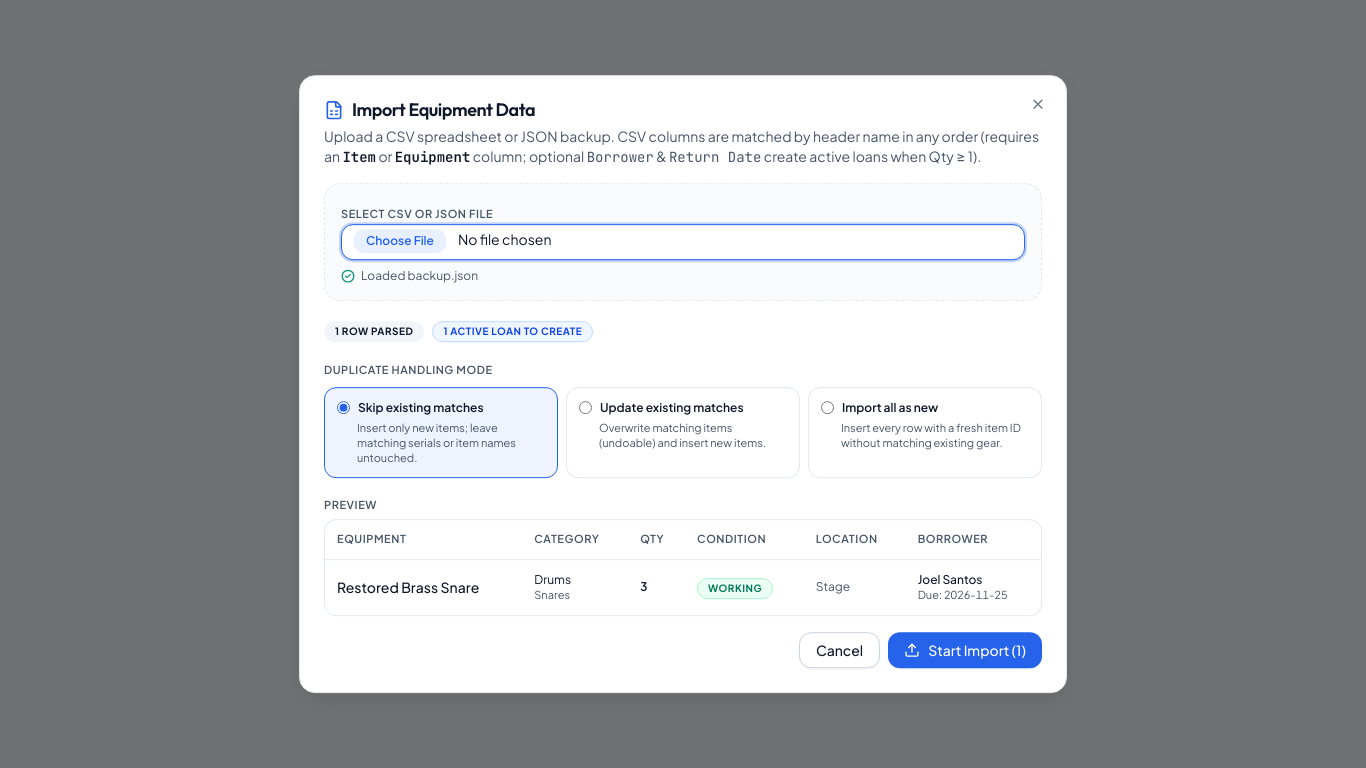
it: ImportWizardDialog › preserves subcategory_id and activeLoans when importing a JSON backup and logs partial commits if loans insert fails
Earlier steps of the test are not shown.
Check: the text "Restored Brass Snare" is shown, box [325,560,522,615]
Click the button "Start Import (1)" at {"x": 965, "y": 650}, box [888,632,1042,668]
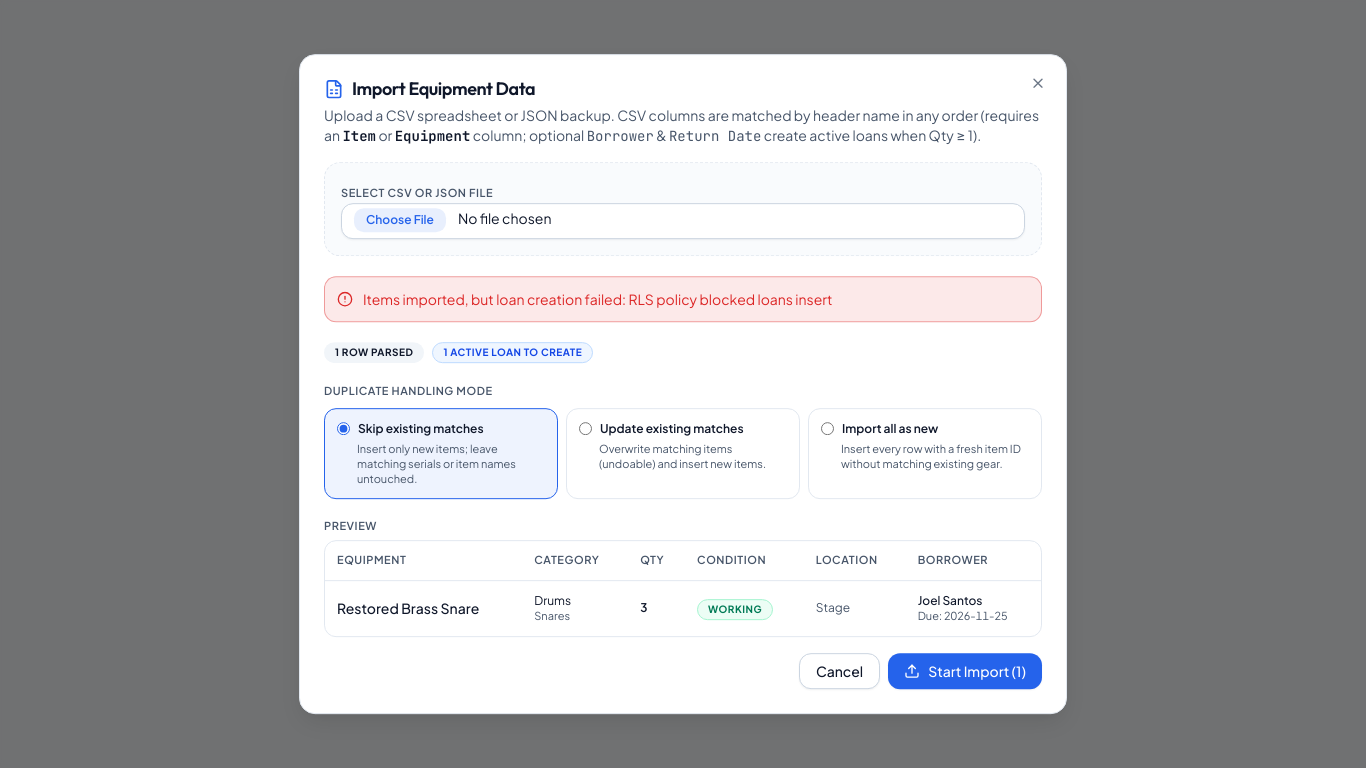
Check: the text "Joel Santos" is shown, box [918,593,982,608]
Check: the message shows "RLS policy blocked loans insert", box [363,290,832,308]
